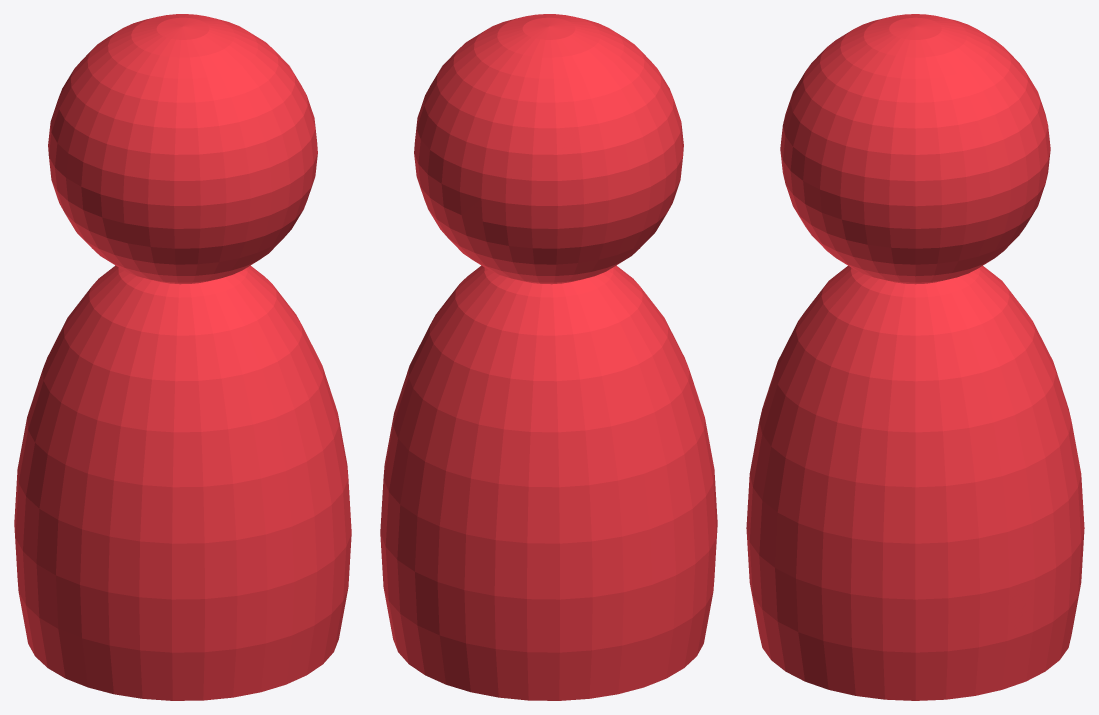
Rendered from player2.obj.
3 renders of one model, left to right at view 1: azimuth 30°, elevation 25°; view 2: azimuth 150°, elevation 25°; view 3: azimuth 270°, elevation 25°, orthographic.
Visible parts, largest first — view 1: 球; view 2: 球; view 3: 球.
Boxes of the visible parts, left/top/right/bottom form: 球: left=14, top=14, right=351, bottom=700; 球: left=380, top=14, right=717, bottom=700; 球: left=746, top=14, right=1084, bottom=700.
Bounding box in the file's own units: 1 × 1.99 × 1.
Materials: 1 (1 with a texture image).
